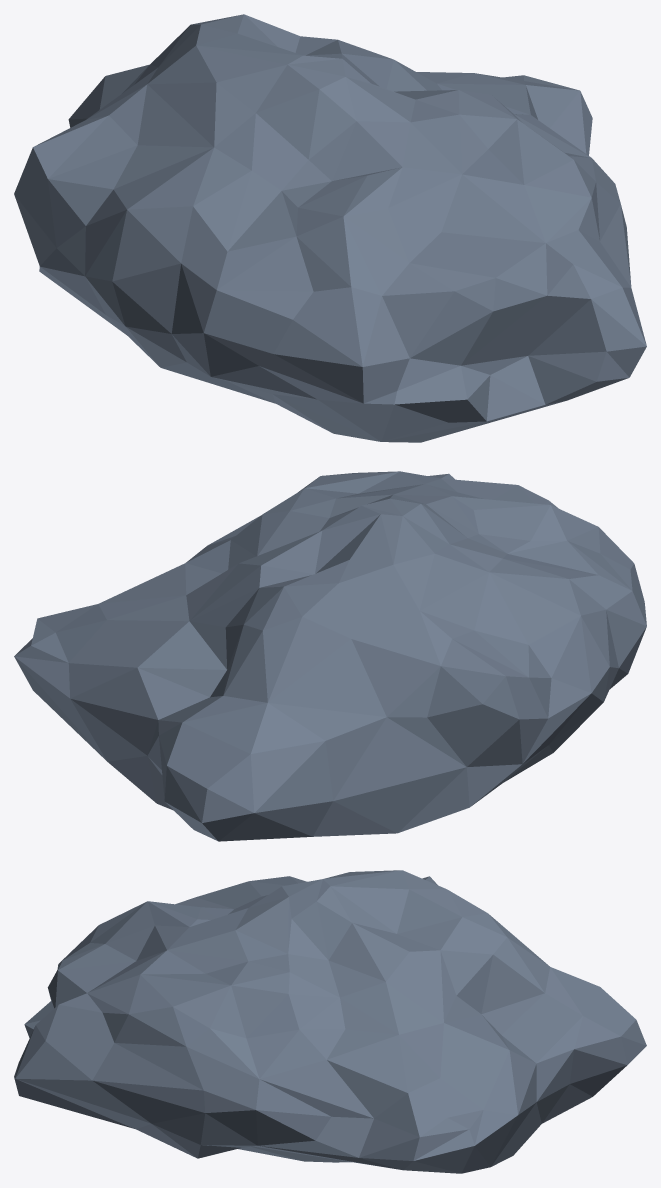
File: stone1.obj
3 views of the same model, one above another, from view 1: azimuth 30°, elevation 25°; view 2: azimuth 150°, elevation 25°; view 3: azimuth 270°, elevation 25° (orthographic). The views are drawn at different scales.
Parts seen in each view (by area): view 1: Sphere; view 2: Sphere; view 3: Sphere.
Part boxes in pixels (box(x1,y1,x2,y2)): Sphere: box(14, 14, 646, 442); Sphere: box(14, 471, 646, 841); Sphere: box(14, 870, 646, 1173).
Bounding box in the file's own units: 1.73 × 0.963 × 2.13.
